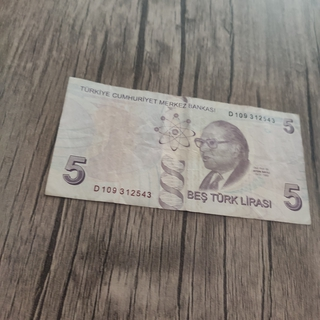5TLBack: (42, 74, 313, 227)
